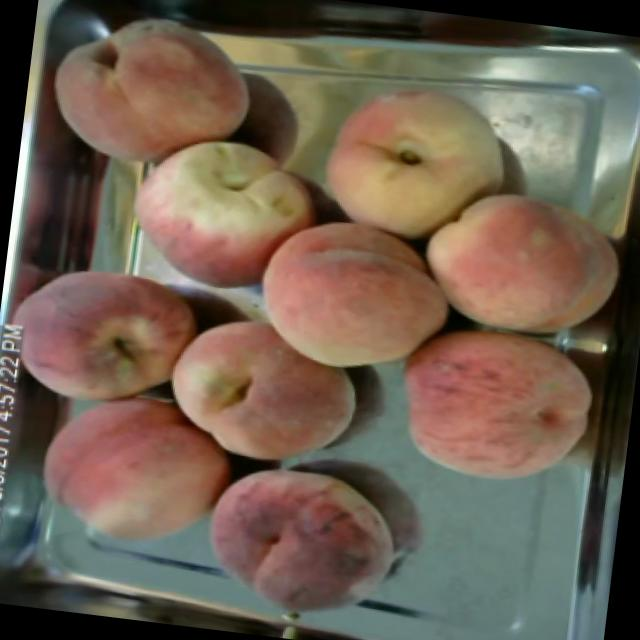Fruit: (181, 442, 423, 640), (236, 203, 473, 398), (29, 0, 269, 191), (304, 59, 524, 262), (377, 312, 608, 504), (146, 294, 382, 480), (400, 168, 636, 352), (22, 370, 246, 562), (122, 115, 338, 312), (0, 247, 219, 421)
